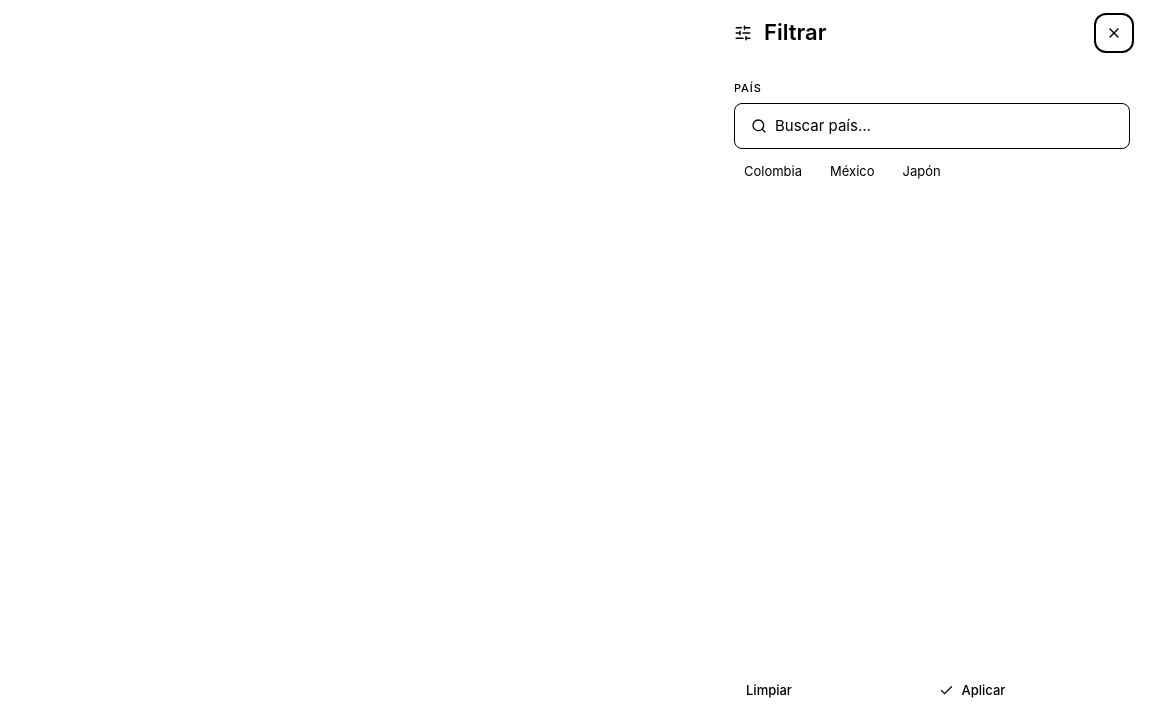
Test: FilterDrawer — autocomplete section › search input filters available options
Type "Méx" into the search field with placeholder "Buscar país…". click: (944, 126)
box: [775, 115, 1113, 137]
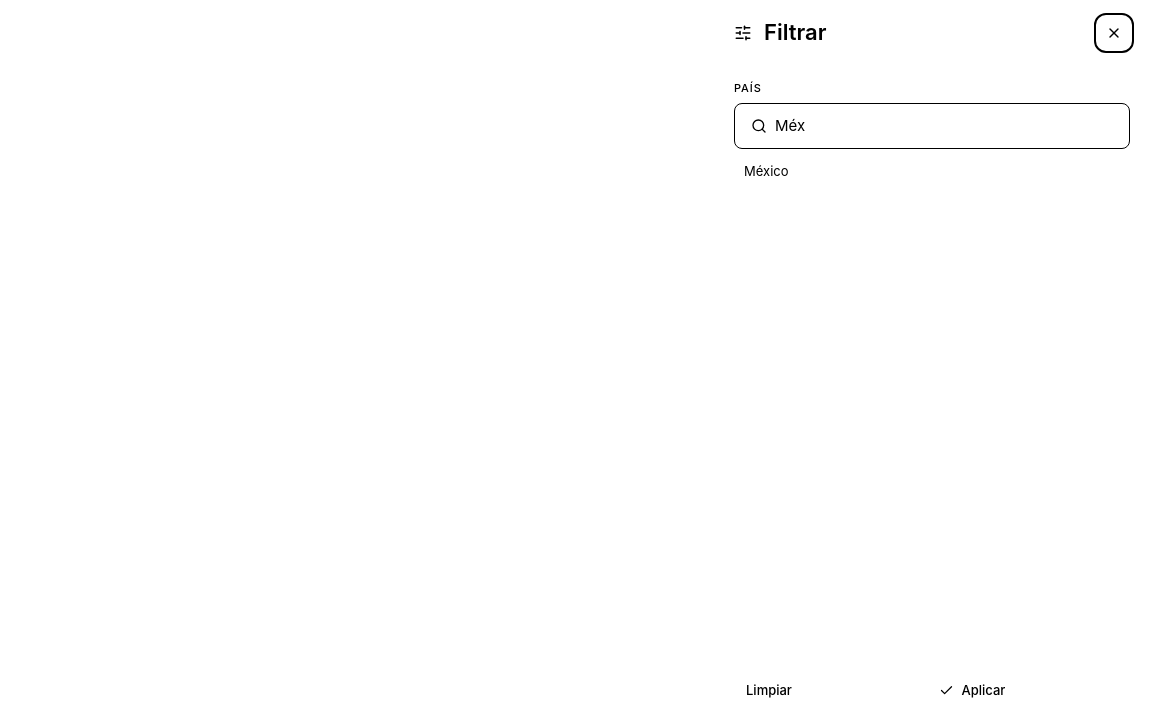
Expected: the button "México" is shown, [734, 157, 798, 186]
Result: the button "Colombia" is gone
